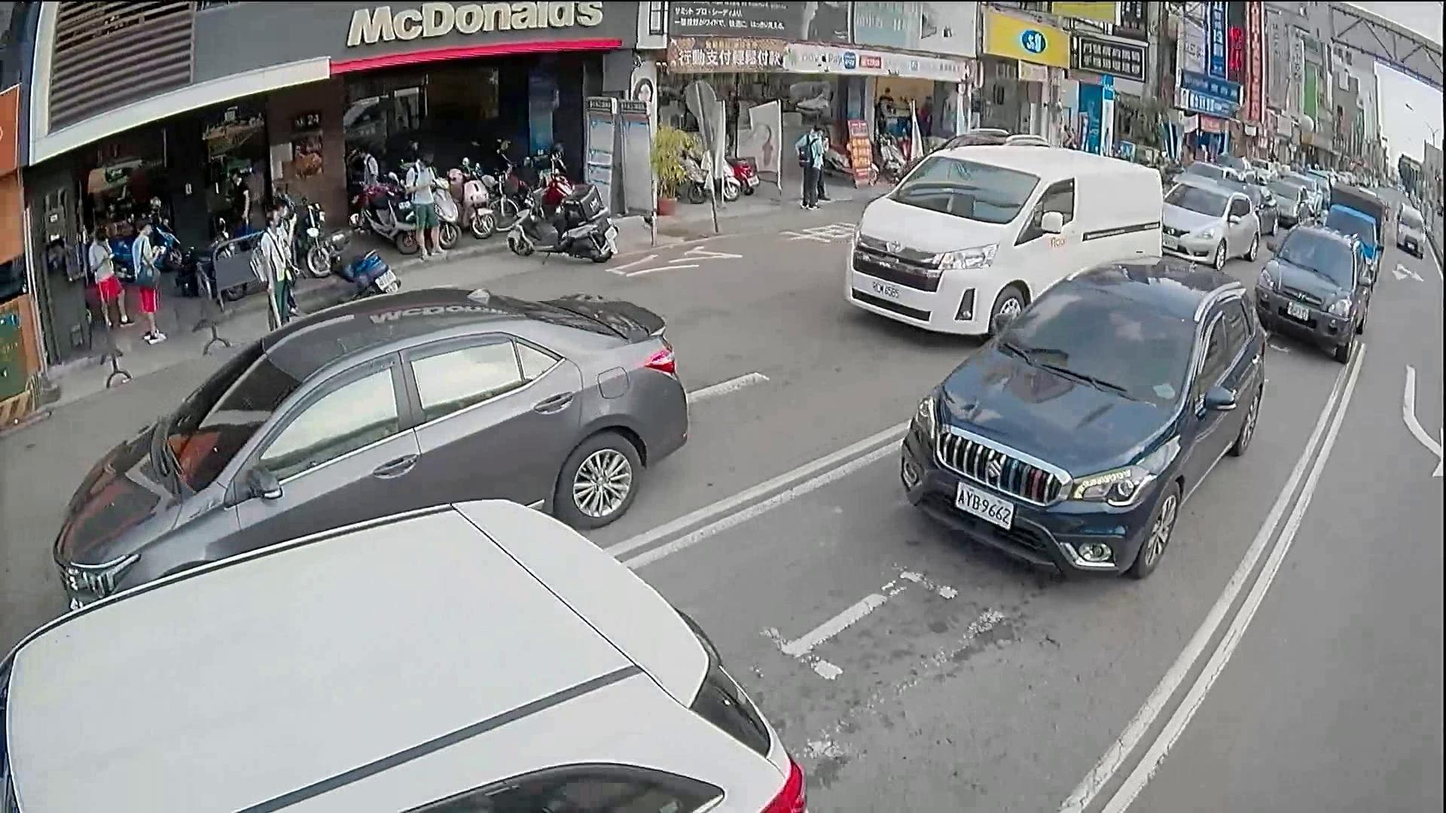person: (126, 218, 168, 343), (398, 149, 444, 258), (81, 221, 121, 339), (250, 207, 288, 325), (792, 120, 823, 208), (350, 146, 382, 183)
